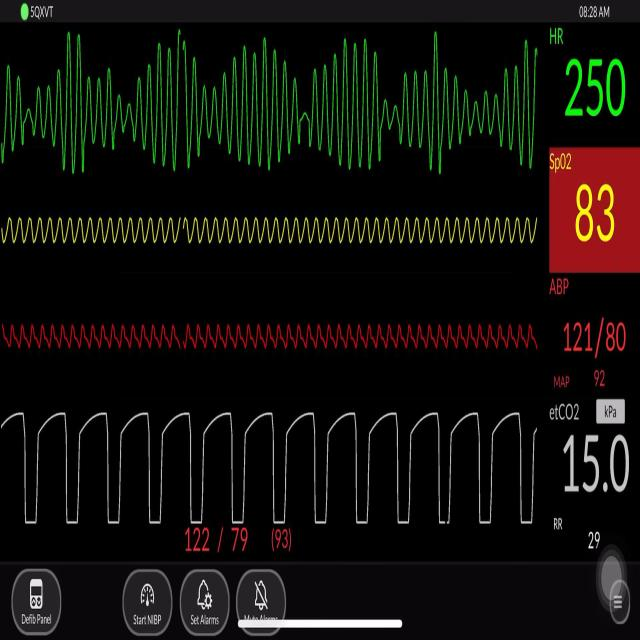danger: (10, 32, 544, 182)
